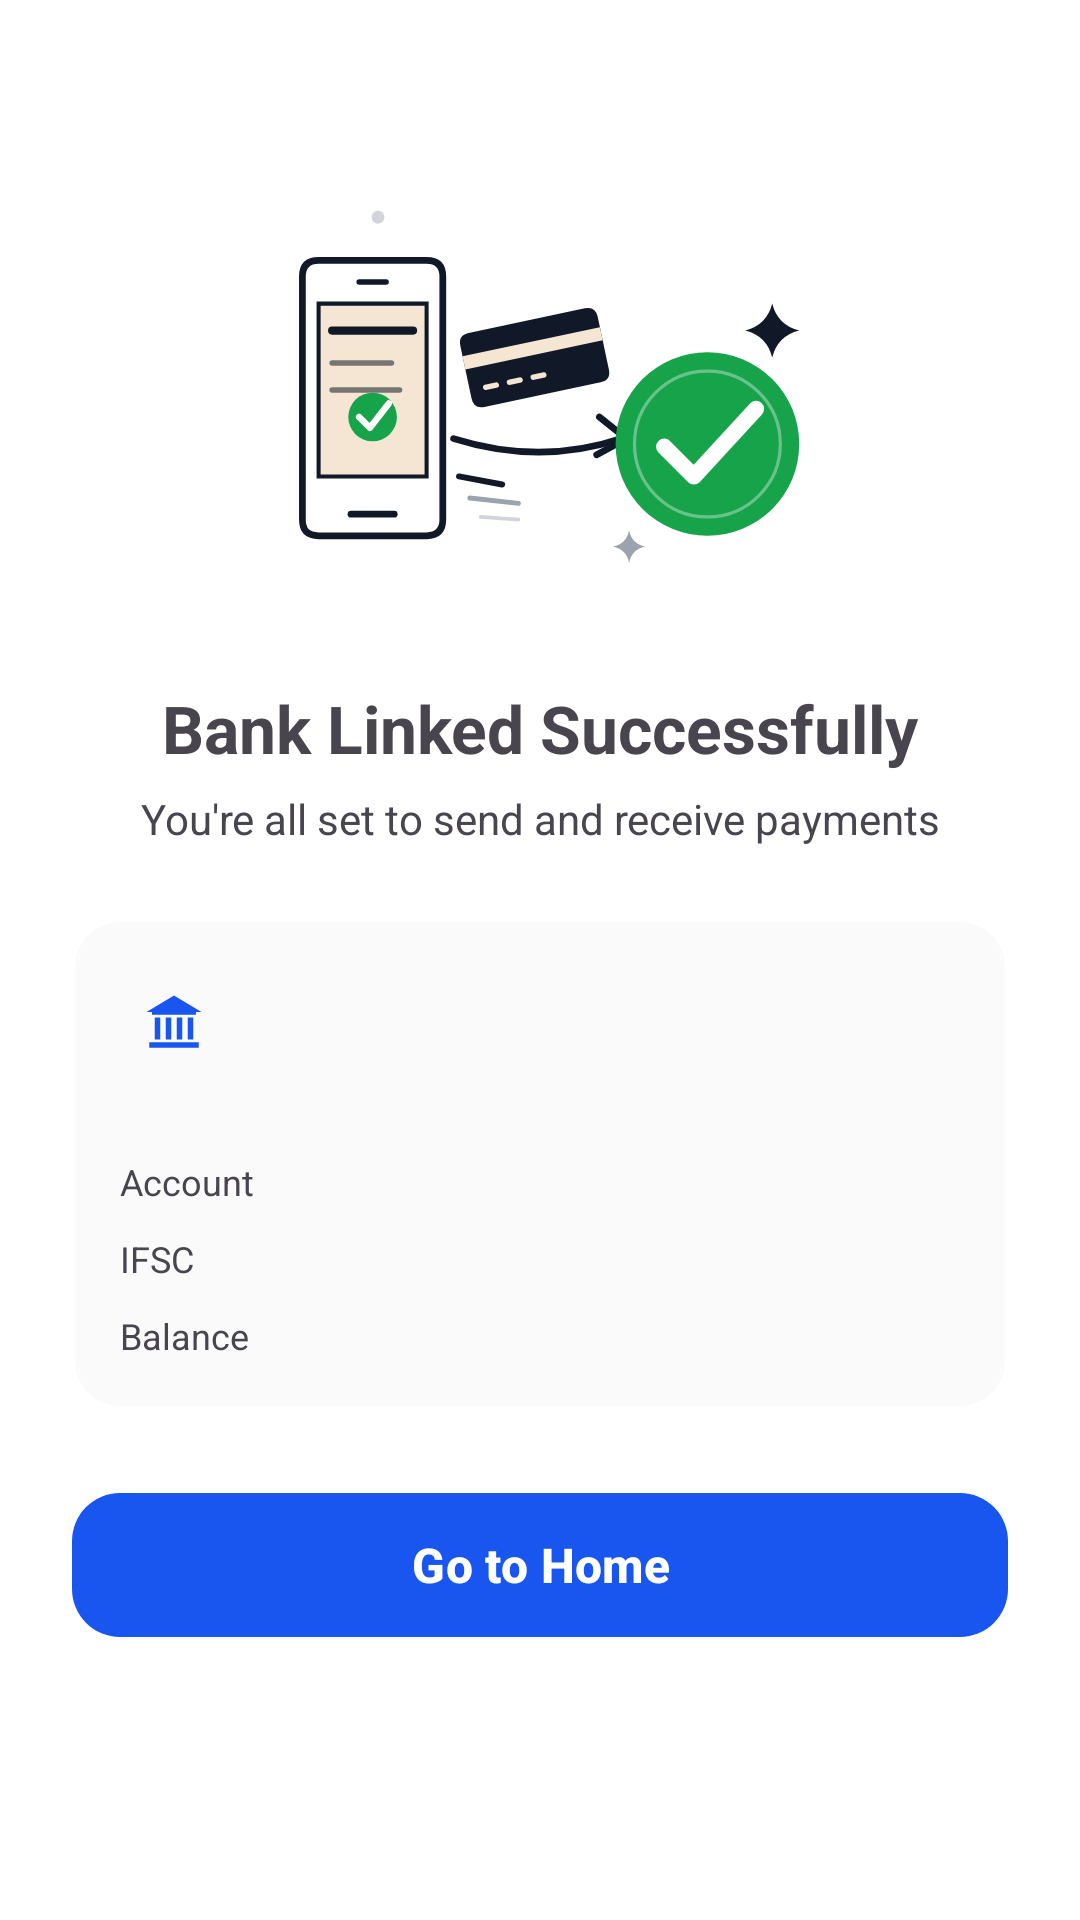

Where to tap for icons on this 1080px x 1920px app screen, as (x,y):
bank: (174,1021)
